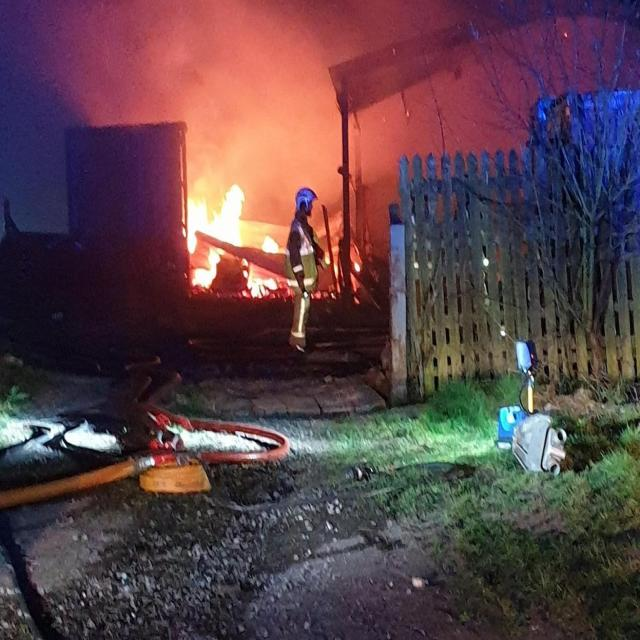Fire: (181, 182, 244, 293), (244, 271, 278, 300), (261, 235, 287, 256)
